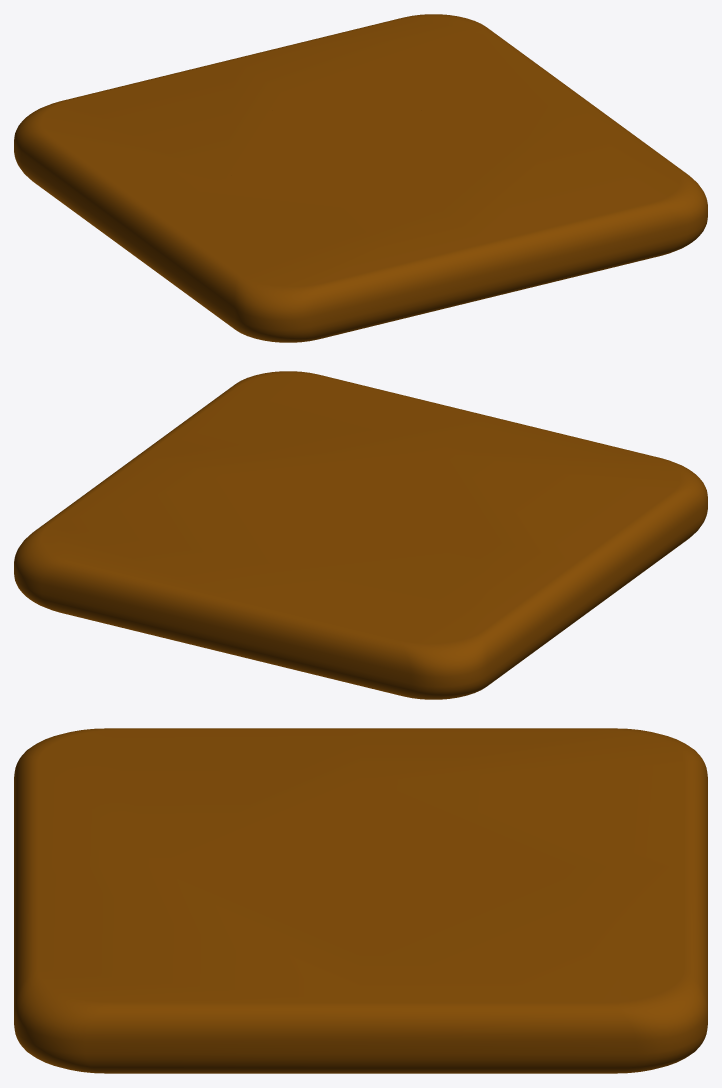
File: platformorbayiso.fbx
3 views of the same model, one above another, from view 1: azimuth 30°, elevation 25°; view 2: azimuth 150°, elevation 25°; view 3: azimuth 270°, elevation 25° (orthographic). The views are drawn at different scales.
Parts seen in each view (by area): view 1: Cube.007, Cube.008, Cube.006, Cube.005, Cube.009; view 2: Cube.006, Cube.005, Cube.007, Cube.008, Cube.009; view 3: Cube.005, Cube.008, Cube.006, Cube.007, Cube.009.
Boxes of the visible parts, bbox=[...] form: Cube.007: bbox=[128, 185, 495, 342]; Cube.008: bbox=[439, 98, 707, 297]; Cube.006: bbox=[14, 59, 282, 255]; Cube.005: bbox=[233, 14, 585, 118]; Cube.009: bbox=[225, 94, 496, 208]; Cube.006: bbox=[226, 542, 593, 699]; Cube.005: bbox=[14, 455, 282, 654]; Cube.007: bbox=[439, 416, 707, 612]; Cube.008: bbox=[136, 371, 488, 475]; Cube.009: bbox=[225, 451, 496, 565]; Cube.005: bbox=[361, 866, 707, 1073]; Cube.008: bbox=[14, 866, 360, 1073]; Cube.006: bbox=[361, 728, 707, 892]; Cube.007: bbox=[14, 728, 360, 892]; Cube.009: bbox=[159, 781, 562, 951].
Bounding box in the file's own units: 673 × 73.67 × 673.
Materials: 1 (1 with a texture image).
